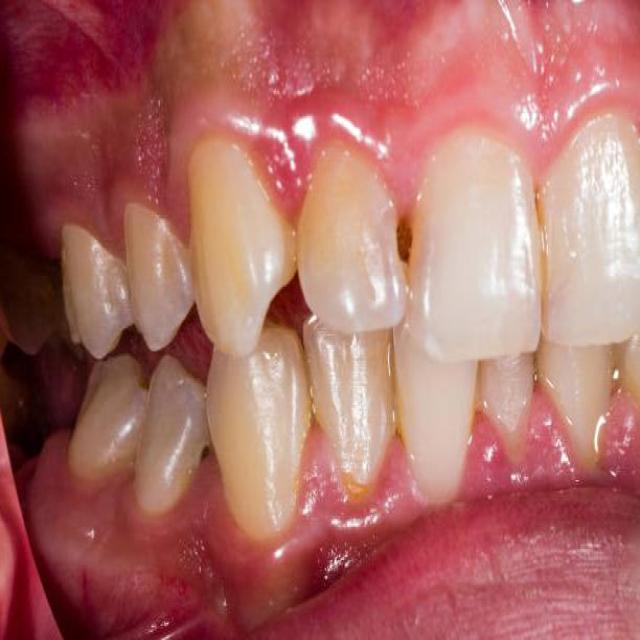Gingivitis: (167, 532, 247, 610), (267, 88, 312, 194), (288, 518, 358, 585)
